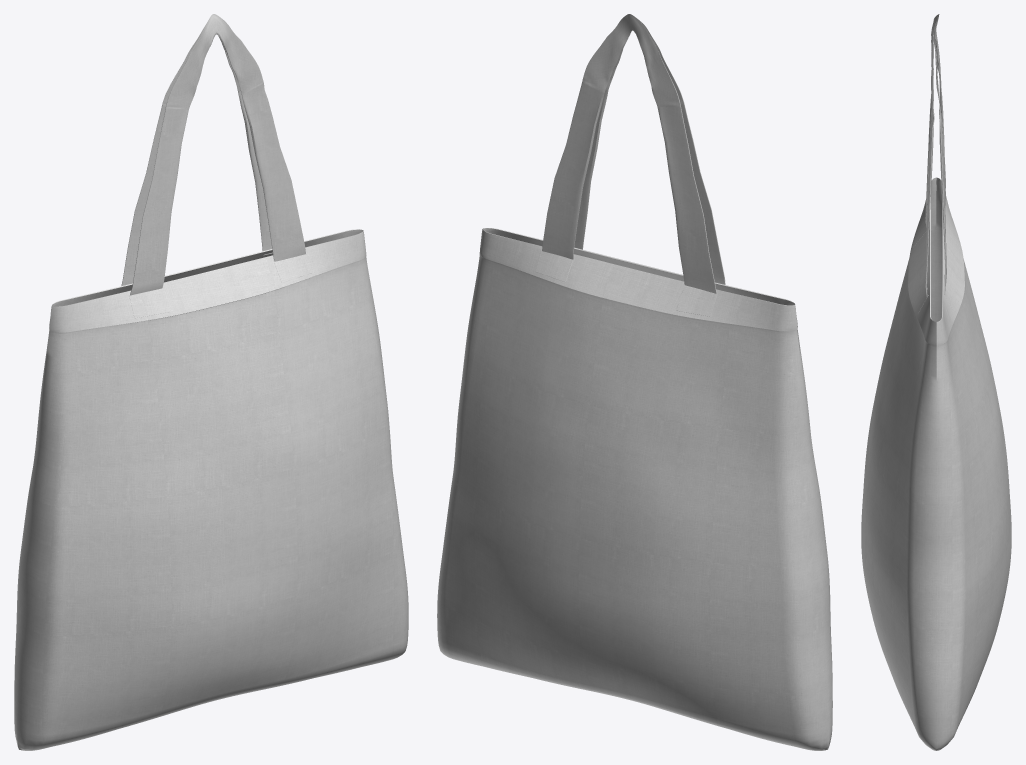
The model's file is bag.glb.
The picture shows the model from 3 angles, left to right: view 1: azimuth 30°, elevation 25°; view 2: azimuth 150°, elevation 25°; view 3: azimuth 270°, elevation 25°; orthographic projection. The views are drawn at different scales.
Visible parts, largest first — view 1: pCube28; view 2: pCube28; view 3: pCube28.
Part boxes in pixels (<box>): pCube28: <box>14,14,408,750</box>; pCube28: <box>437,14,832,750</box>; pCube28: <box>861,14,1011,750</box>.
Size of the model in its own units: 0.0989 by 0.1675 by 0.0349.
1 material, 1 textured.
